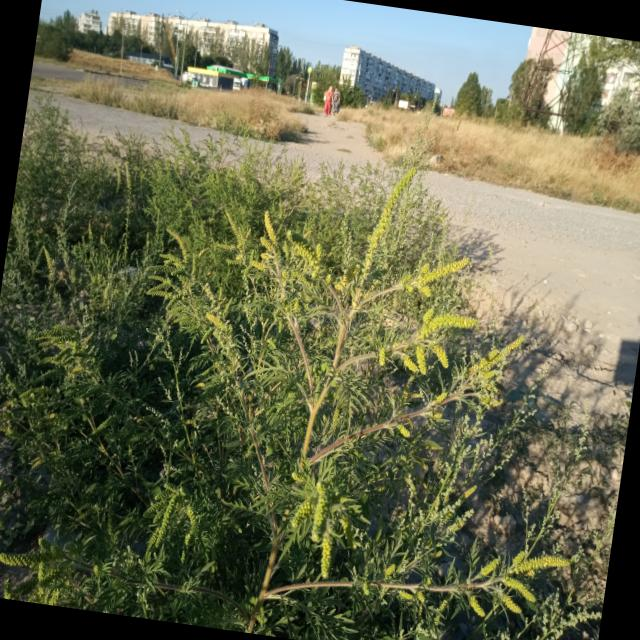ambrosia: (186, 168, 518, 628), (27, 206, 168, 412), (458, 516, 585, 640), (4, 518, 116, 612)
